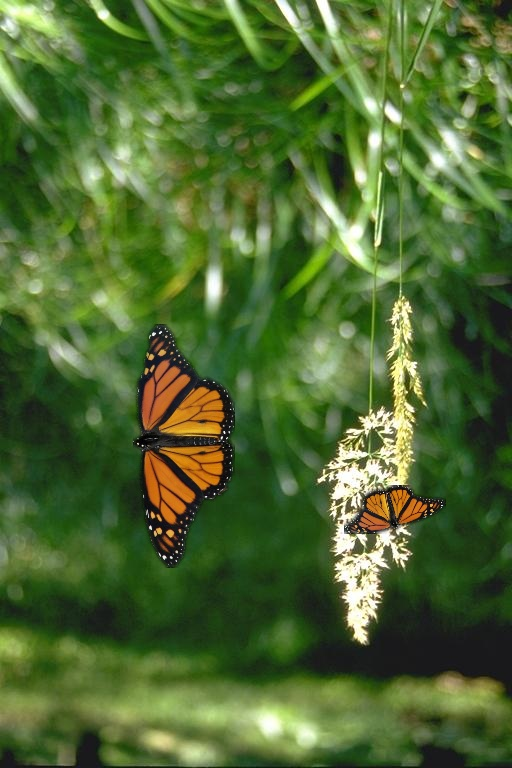danaus_plexippus: (133, 324, 235, 568), (344, 485, 446, 534)
